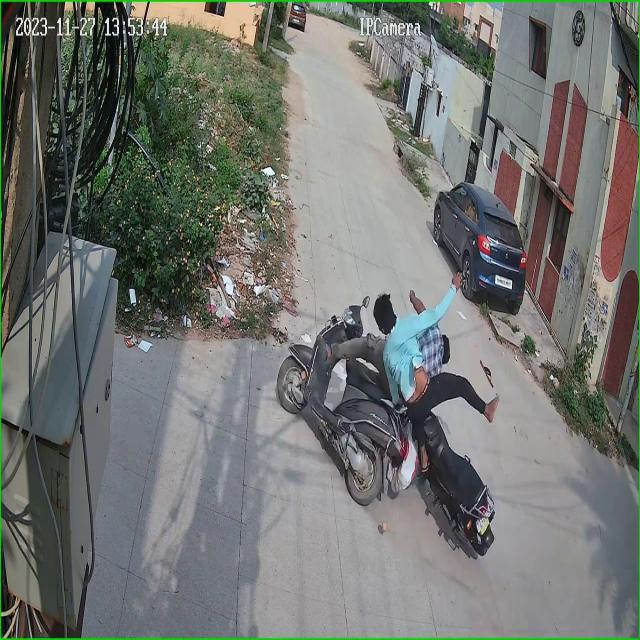accident: (270, 263, 504, 571)
